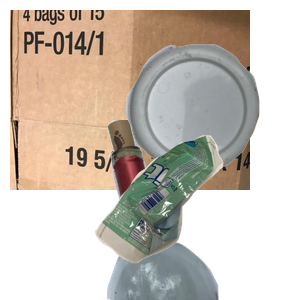cardboard: (10, 10, 250, 190)
glass: (83, 120, 294, 300)
plastic: (124, 42, 300, 210)
trash: (92, 133, 300, 300)
